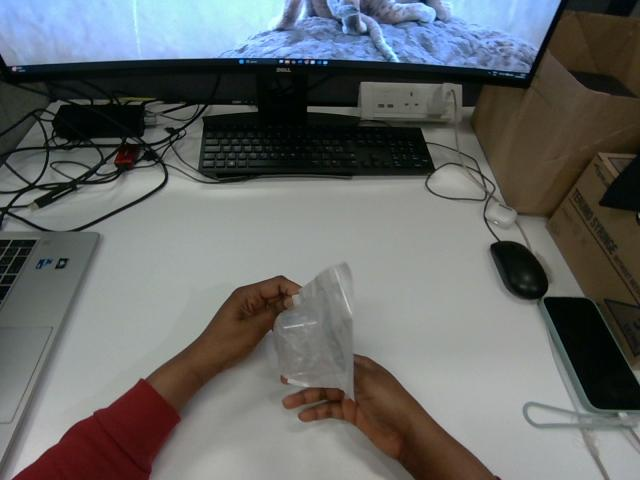gallipot: (273, 263, 353, 398)
